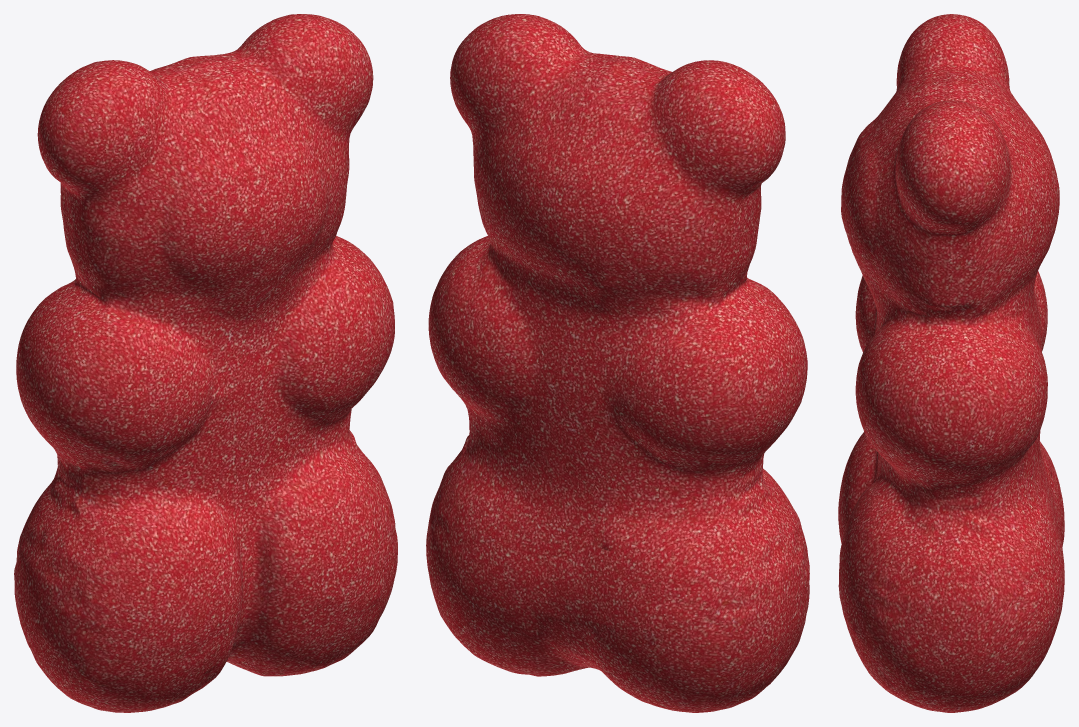
File: gummy-bear.glb
3 renders of one model, left to right at view 1: azimuth 30°, elevation 25°; view 2: azimuth 150°, elevation 25°; view 3: azimuth 270°, elevation 25°, orthographic. The views are drawn at different scales.
Visible parts, largest first — view 1: Gummy; view 2: Gummy; view 3: Gummy.
Boxes of the visible parts, bbox=[...] form: Gummy: bbox=[14, 14, 397, 712]; Gummy: bbox=[426, 14, 809, 712]; Gummy: bbox=[838, 14, 1064, 712].
Bounding box in the file's own units: 2.05 × 3.6 × 1.23.
1 material, 1 textured.
